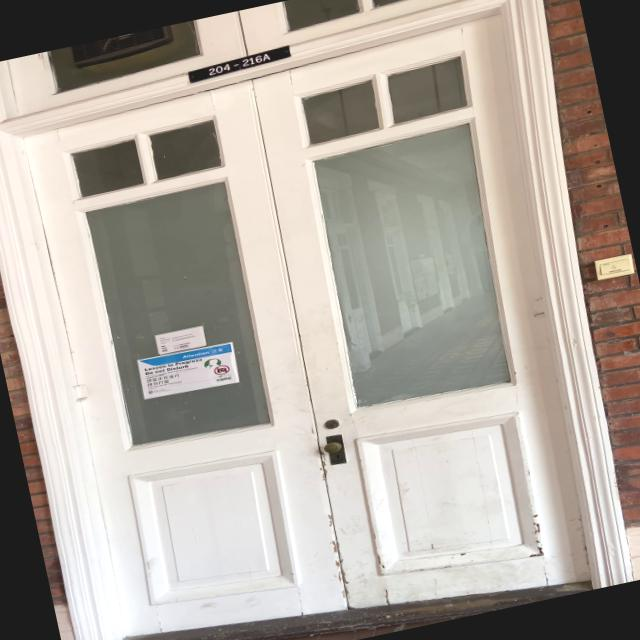room204: (178, 38, 298, 90)
